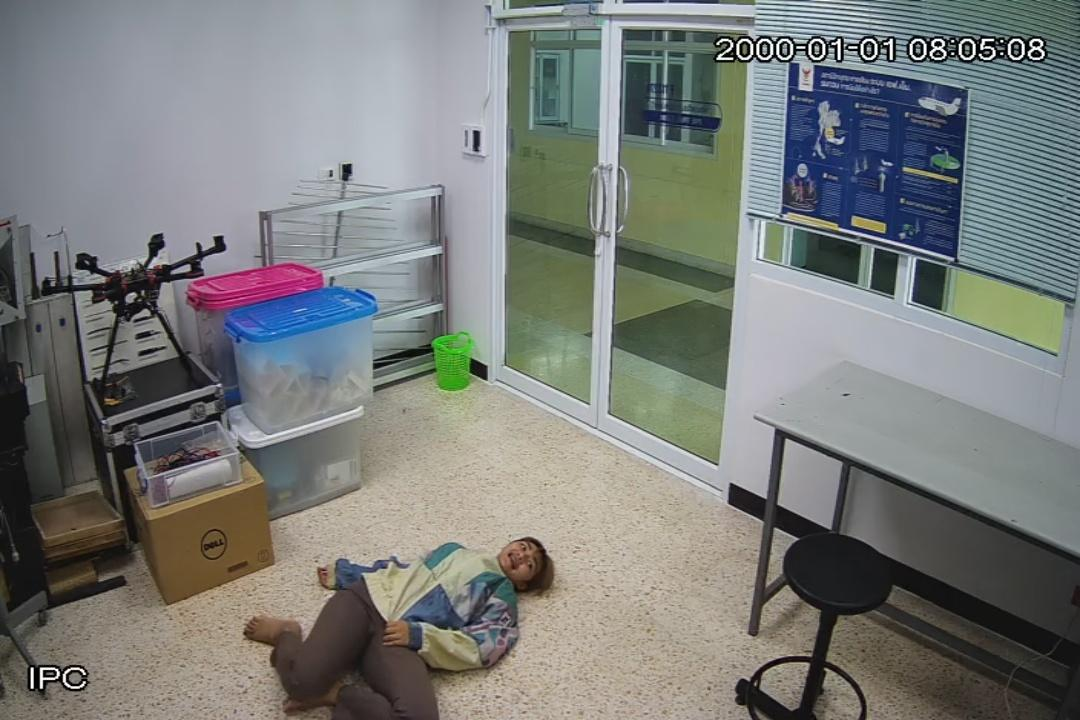fall: (245, 533, 547, 720)
